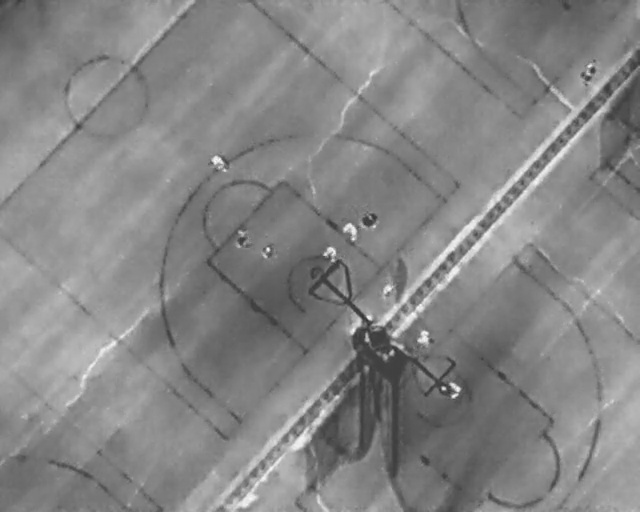Person: (360, 208, 377, 232), (580, 60, 595, 87), (342, 220, 358, 244), (210, 153, 227, 175), (322, 242, 337, 266), (236, 225, 249, 248), (261, 242, 275, 261), (416, 330, 430, 348)
